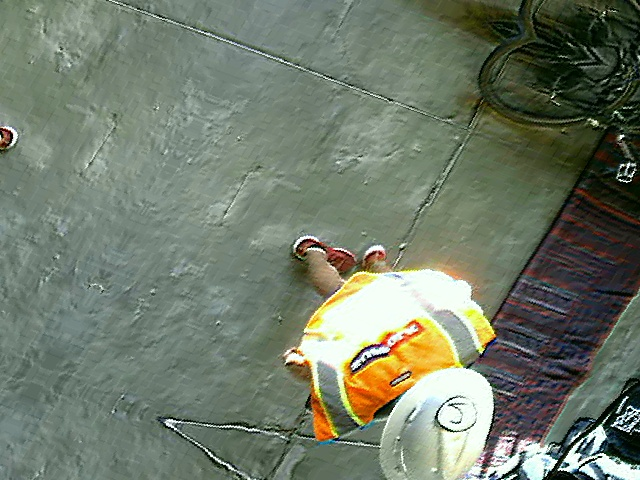two: (430, 391, 488, 437)
